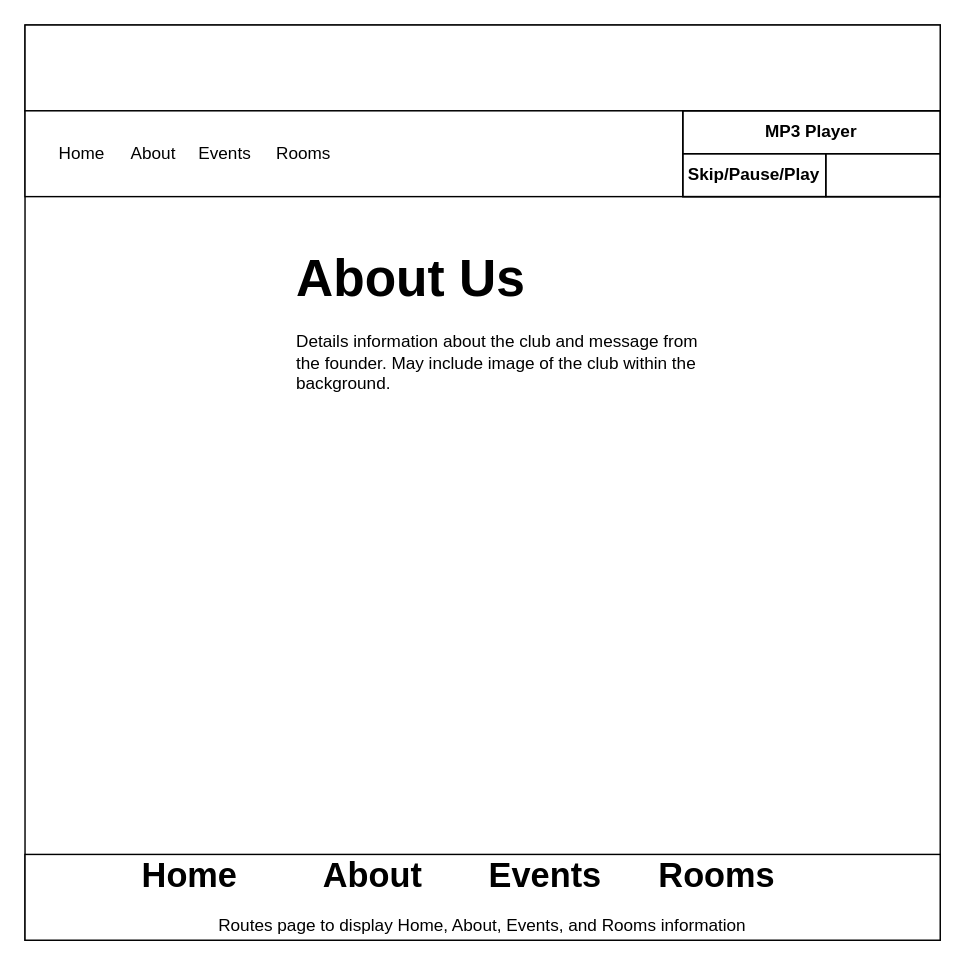
Image size: 965x965. Some labels were removed from this diagram. The centre of each missing label's shape, as x and y in pixels:
"Lofi Chai" belongs at point 482,67.
"Volume Slider" belongs at point 882,174.
